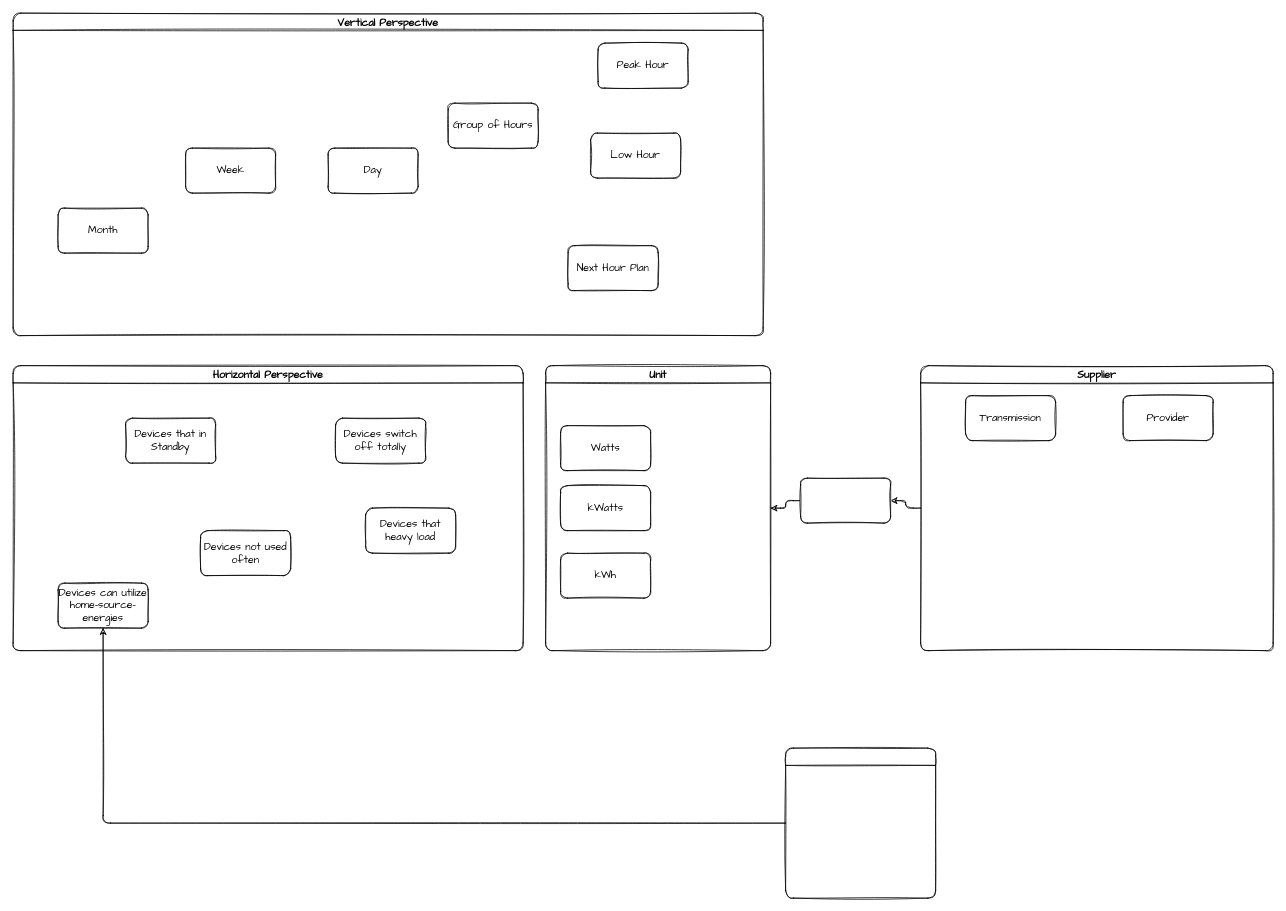
This 1286x911 diagram has some shape labels left out. The centre of each missing label's shape, as x and y in pixels:
Home Source Energies: point 860,822
Price: point 845,500
